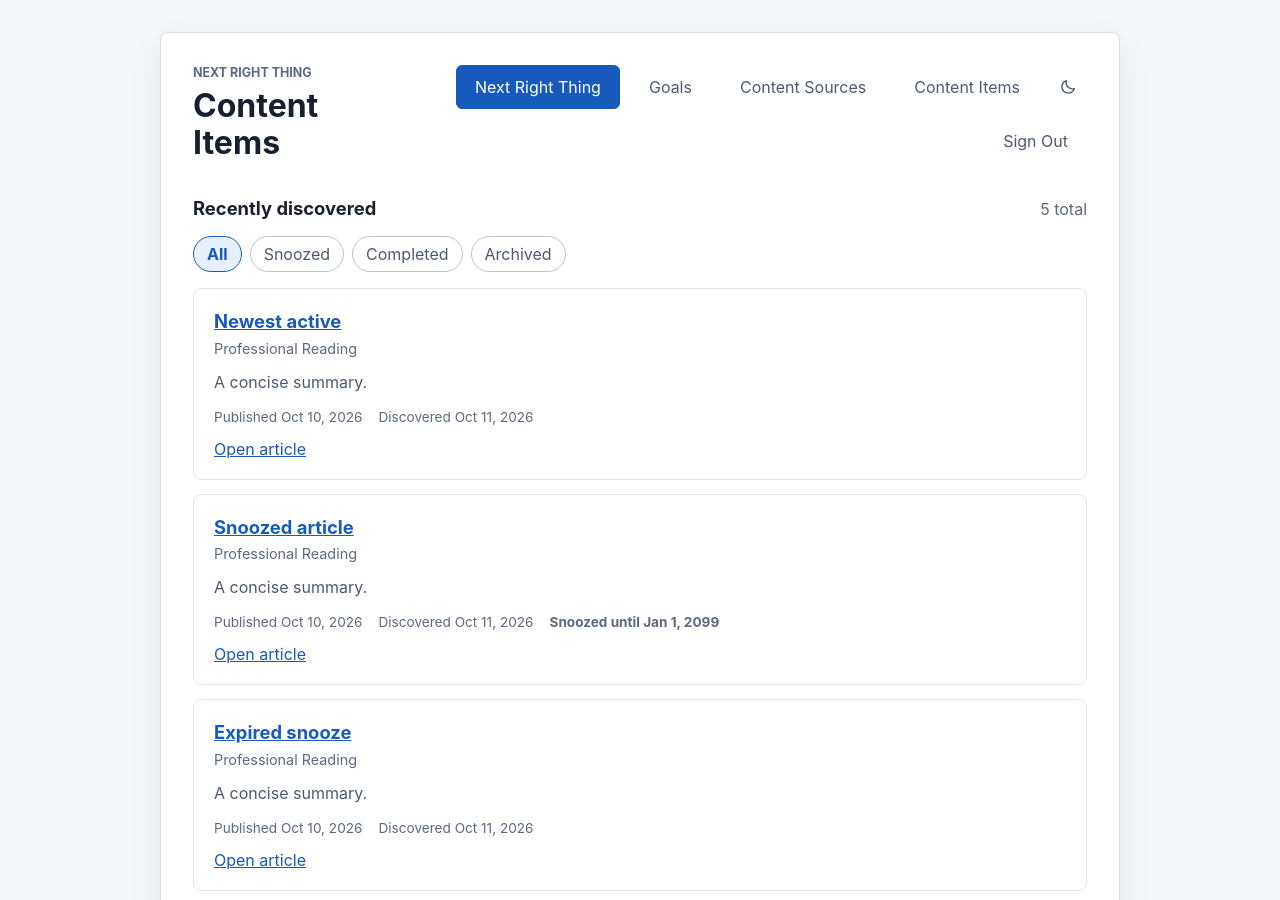
ContentItemsPage › renders item source and disposition filters without changing API order
Expected: the link "Newest active" is shown, [214,310,341,332]
Expected: the text "Snoozed until Jan 1, 2099" is shown, [550,614,719,630]
Click the button "Snoozed" at (297,254), box [250,236,344,272]
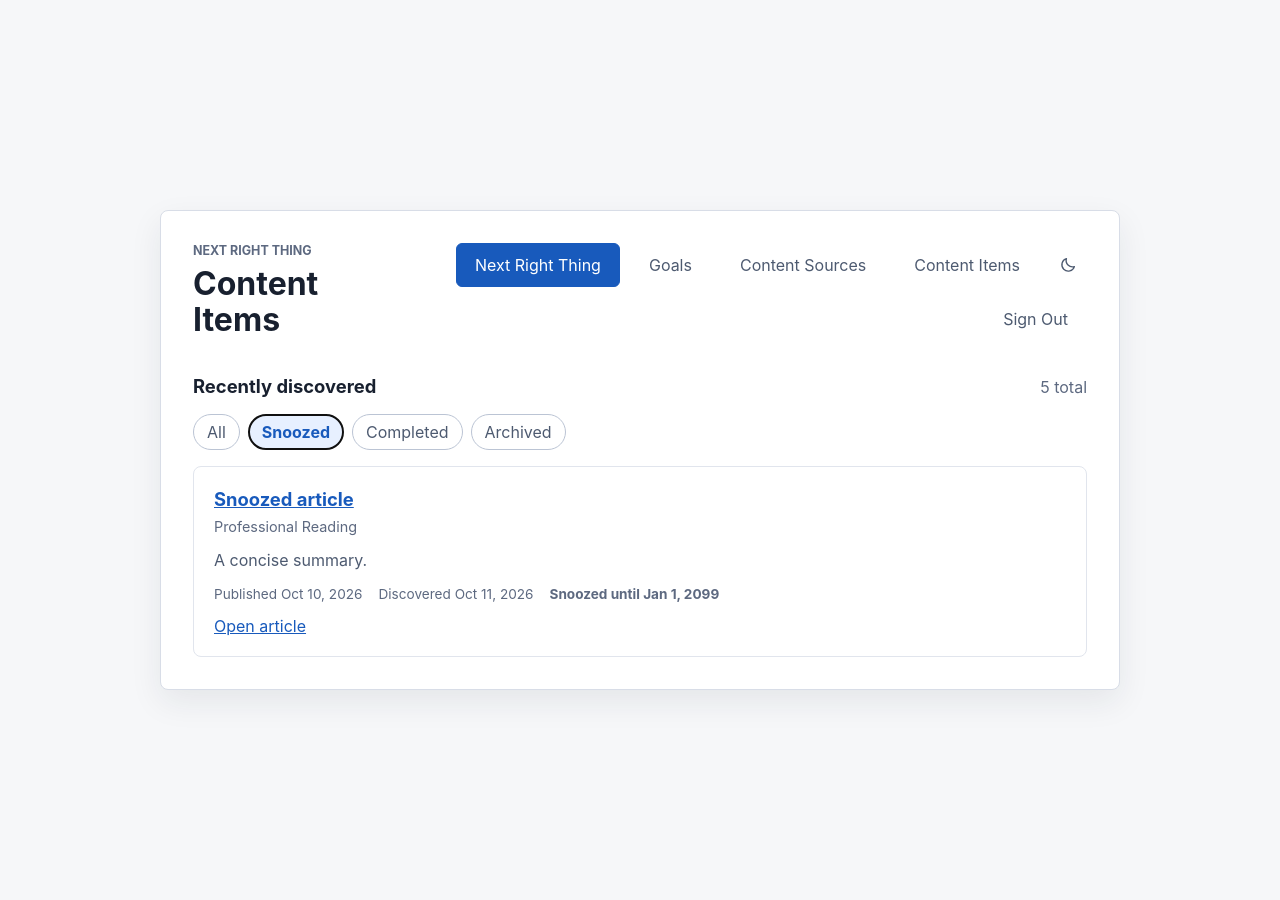
Expected: the link "Snoozed article" is shown, [214,488,354,510]
Expected: the link "Expired snooze" is gone
Click the button "Completed" at (407,432), box [352,414,462,450]
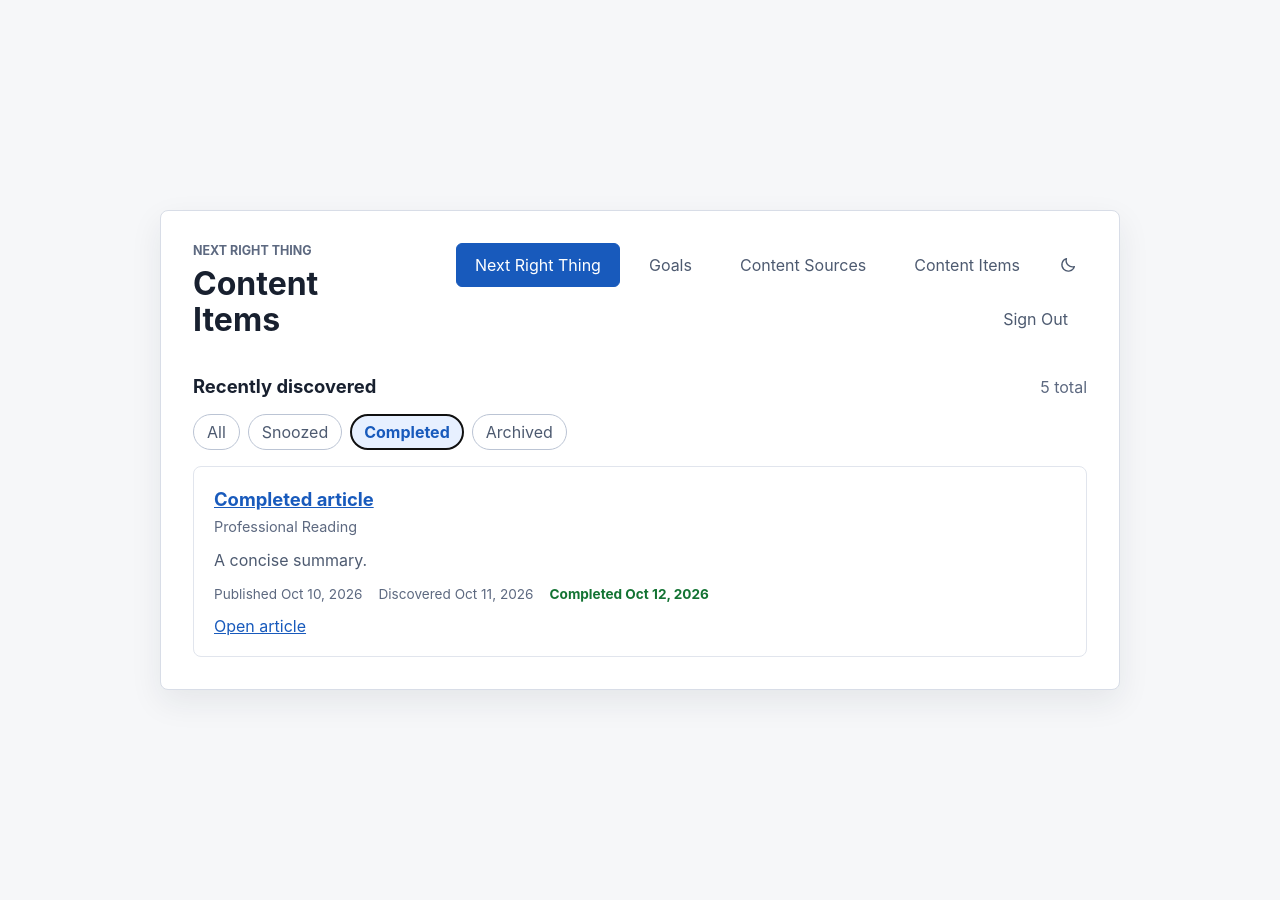
Expected: the link "Completed article" is shown, [214,488,374,510]
Click the button "Archived" at (519,432), box [472,414,567,450]
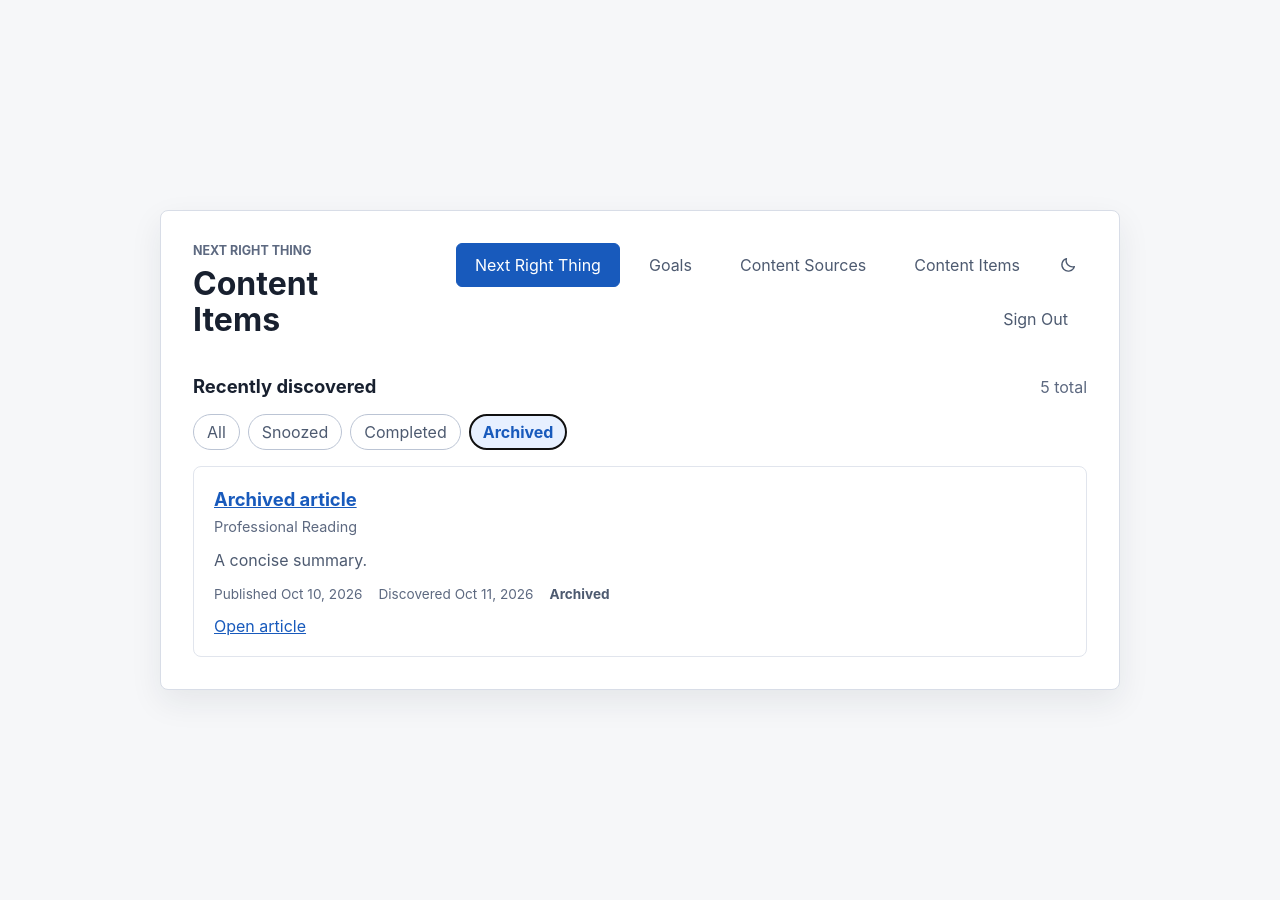
Expected: the link "Archived article" is shown, [214,488,357,510]
